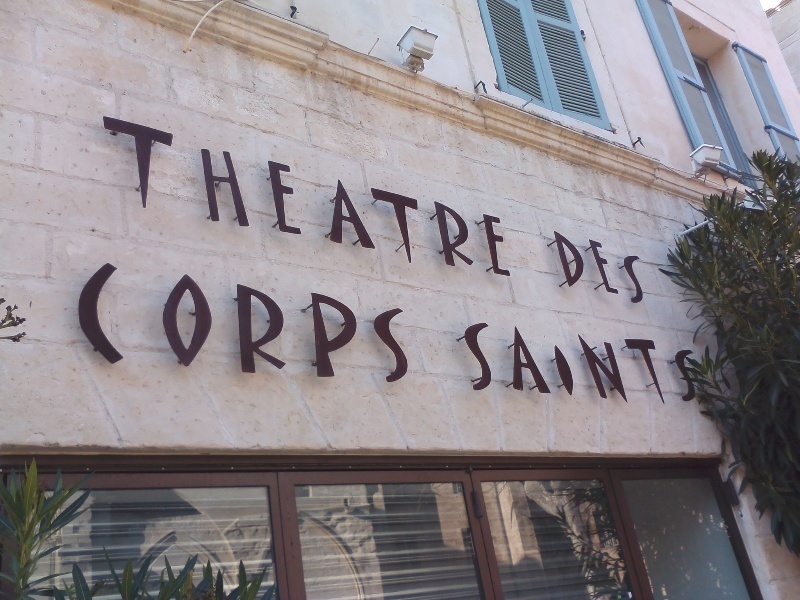text: (113, 110, 128, 284), (129, 110, 144, 284), (145, 110, 160, 284), (161, 110, 176, 284), (177, 110, 192, 284), (193, 110, 208, 284), (209, 110, 224, 284), (225, 110, 240, 284), (241, 110, 256, 284), (257, 110, 272, 284), (273, 110, 288, 284), (289, 110, 304, 284), (305, 110, 320, 284), (321, 110, 336, 284), (337, 110, 352, 284), (353, 110, 368, 284), (369, 110, 384, 284), (385, 110, 400, 284), (401, 110, 416, 284), (417, 110, 432, 284), (433, 110, 448, 284), (449, 110, 464, 284), (465, 110, 480, 284), (481, 110, 496, 284), (497, 110, 512, 284), (100, 110, 112, 284), (81, 257, 96, 384), (97, 257, 112, 384), (113, 257, 128, 384), (129, 257, 144, 384), (145, 257, 160, 384), (161, 257, 176, 384), (177, 257, 192, 384), (193, 257, 208, 384), (209, 257, 224, 384), (225, 257, 240, 384), (241, 257, 256, 384), (257, 257, 272, 384), (273, 257, 288, 384), (289, 257, 304, 384), (305, 257, 320, 384), (321, 257, 336, 384), (337, 257, 352, 384), (353, 257, 368, 384), (369, 257, 384, 384), (385, 257, 400, 384), (465, 321, 480, 407), (481, 321, 496, 407), (497, 321, 512, 407), (513, 321, 528, 407), (529, 321, 544, 407), (545, 321, 560, 407), (561, 321, 576, 407), (577, 321, 592, 407), (593, 321, 608, 407), (609, 321, 624, 407), (625, 321, 640, 407), (641, 321, 656, 407), (657, 321, 672, 407), (673, 321, 688, 407), (689, 321, 704, 407), (401, 257, 410, 384), (561, 231, 576, 307), (577, 231, 592, 307), (593, 231, 608, 307), (609, 231, 624, 307), (625, 231, 640, 307), (641, 231, 651, 307), (552, 231, 560, 307), (77, 257, 80, 384), (705, 321, 709, 407), (513, 110, 514, 284)
